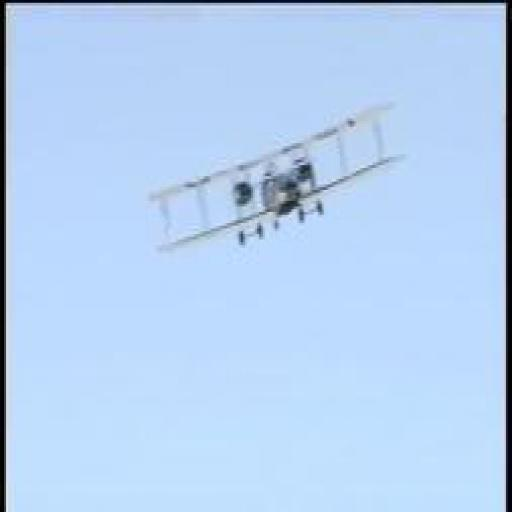aircraft: (147, 96, 407, 255)
